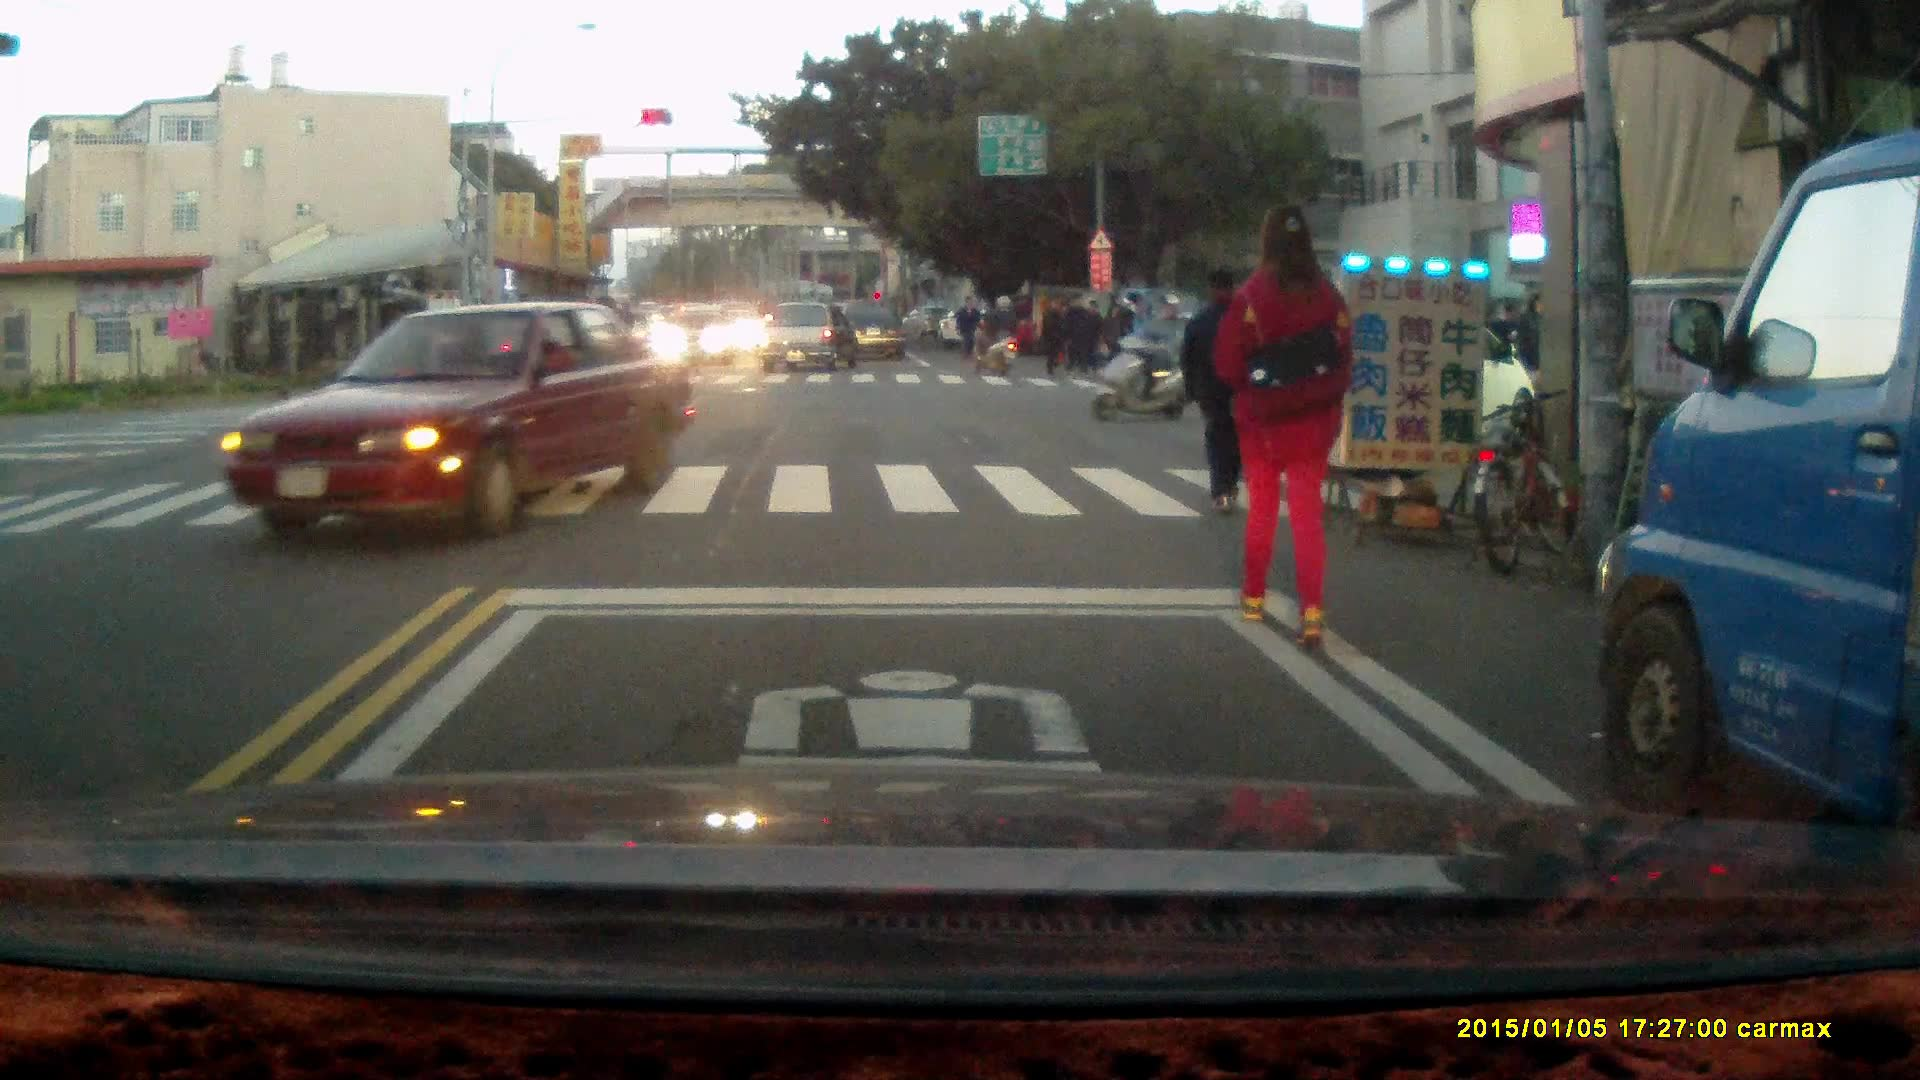pedestrian: (1216, 196, 1345, 644), (1173, 258, 1271, 514), (1510, 291, 1552, 416), (1485, 295, 1519, 402), (1059, 290, 1091, 377), (1036, 293, 1066, 380), (1101, 298, 1128, 373), (956, 291, 979, 363)
rider: (1090, 292, 1191, 421), (971, 293, 1018, 378)
vehicle: (1598, 132, 1920, 870), (221, 304, 696, 535), (1233, 296, 1533, 459), (761, 300, 856, 377), (831, 302, 911, 365)
